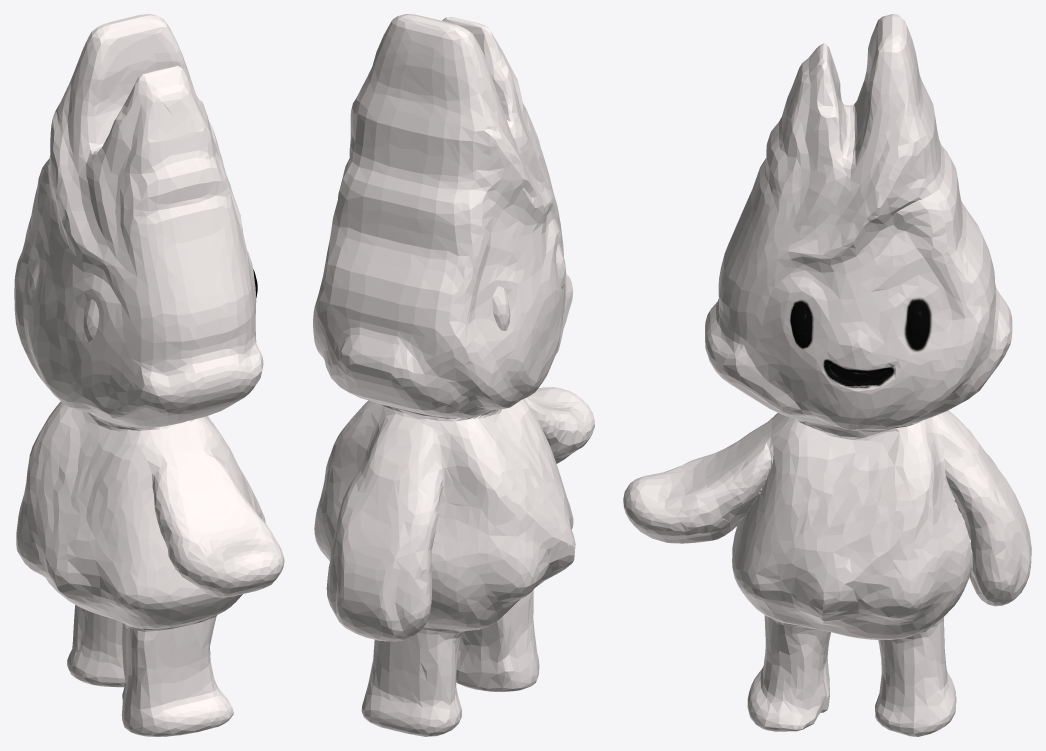
Rendered from roco4.fbx.
3 renders of one model, left to right at view 1: azimuth 30°, elevation 25°; view 2: azimuth 150°, elevation 25°; view 3: azimuth 270°, elevation 25°, orthographic. The views are drawn at different scales.
Visible parts, largest first — view 1: tripo_node_ec6d2ed5-c392-4754-9ff6-7cf015bbcdca; view 2: tripo_node_ec6d2ed5-c392-4754-9ff6-7cf015bbcdca; view 3: tripo_node_ec6d2ed5-c392-4754-9ff6-7cf015bbcdca.
Boxes of the visible parts, x1,y1,x2,y2 form: tripo_node_ec6d2ed5-c392-4754-9ff6-7cf015bbcdca: [14, 14, 284, 736]; tripo_node_ec6d2ed5-c392-4754-9ff6-7cf015bbcdca: [313, 14, 594, 736]; tripo_node_ec6d2ed5-c392-4754-9ff6-7cf015bbcdca: [623, 14, 1031, 736].
Bounding box in the file's own units: 33.21 × 100 × 53.58.
1 material, 1 textured.
